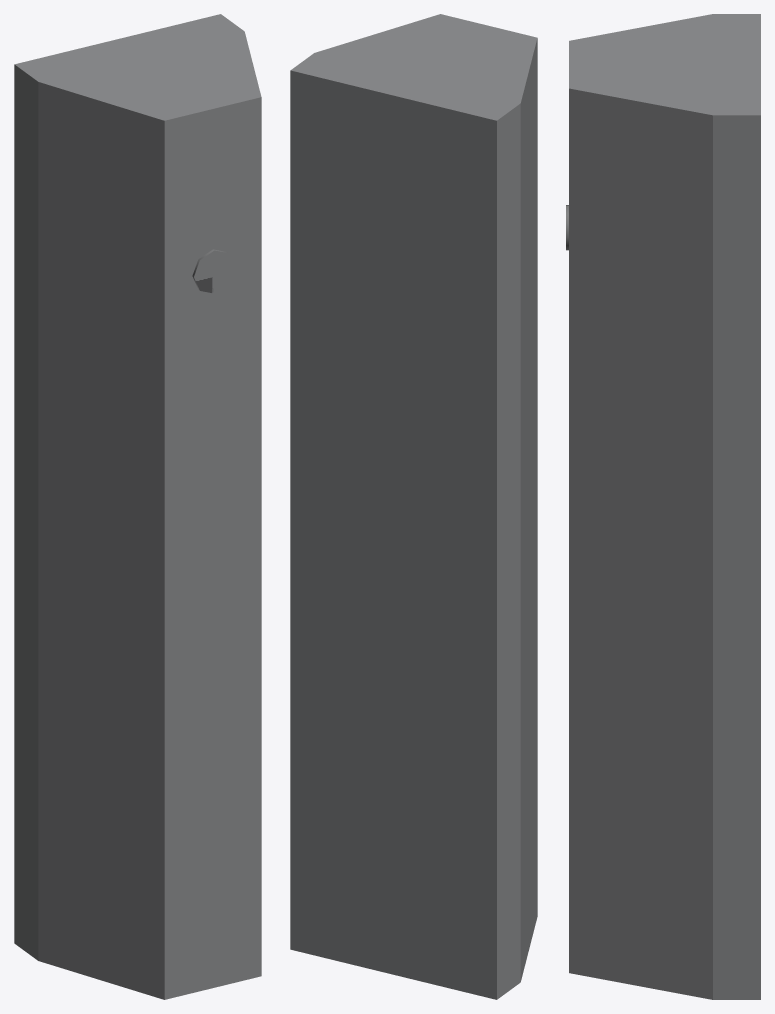
3 renders of one model, left to right at view 1: azimuth 30°, elevation 25°; view 2: azimuth 150°, elevation 25°; view 3: azimuth 270°, elevation 25°, orthographic.
Size of the model in its own units: 0.2 by 0.814 by 0.1625.
